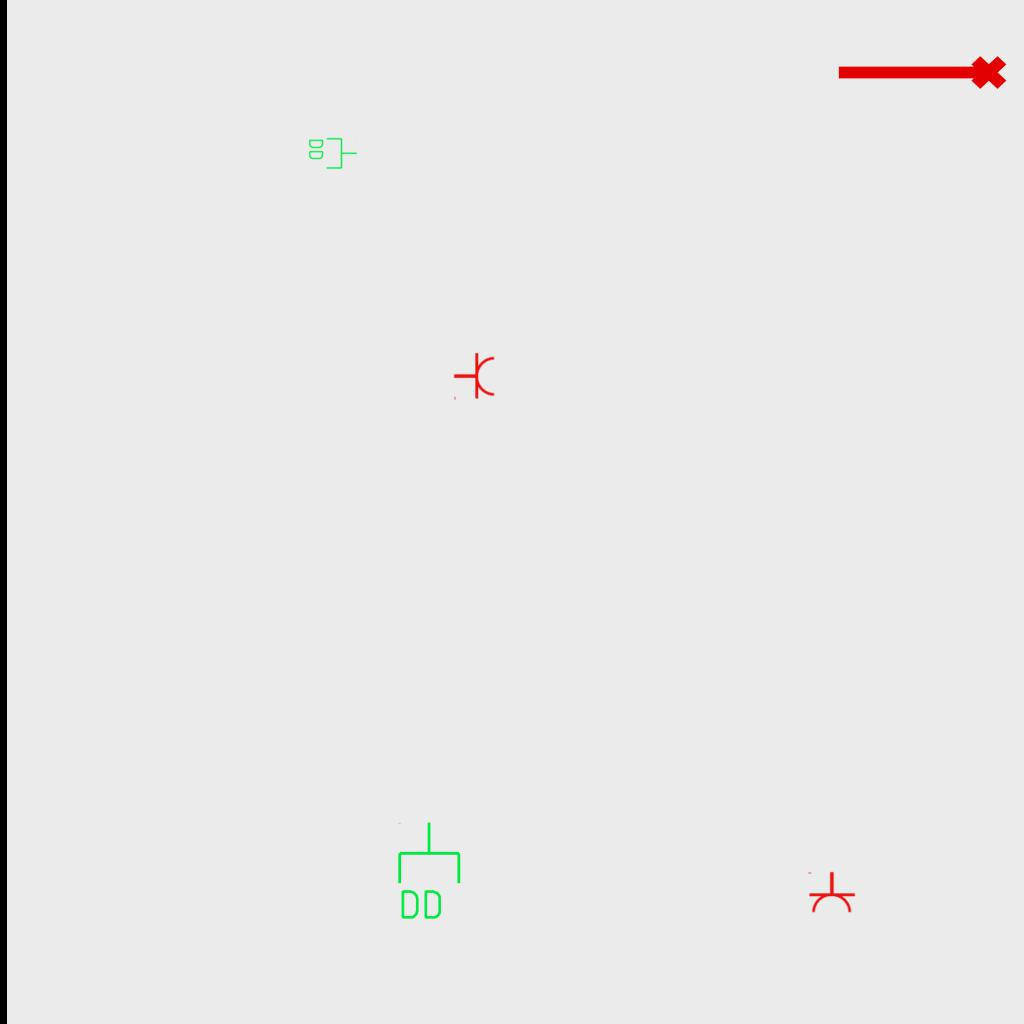ASR_Ansaugoeffnung: (833, 52, 1009, 98)
Datenanschluss_zweifach: (394, 820, 463, 923), (307, 136, 358, 170)
Schukosteckdose_einfach: (453, 352, 496, 402), (806, 871, 856, 914)
